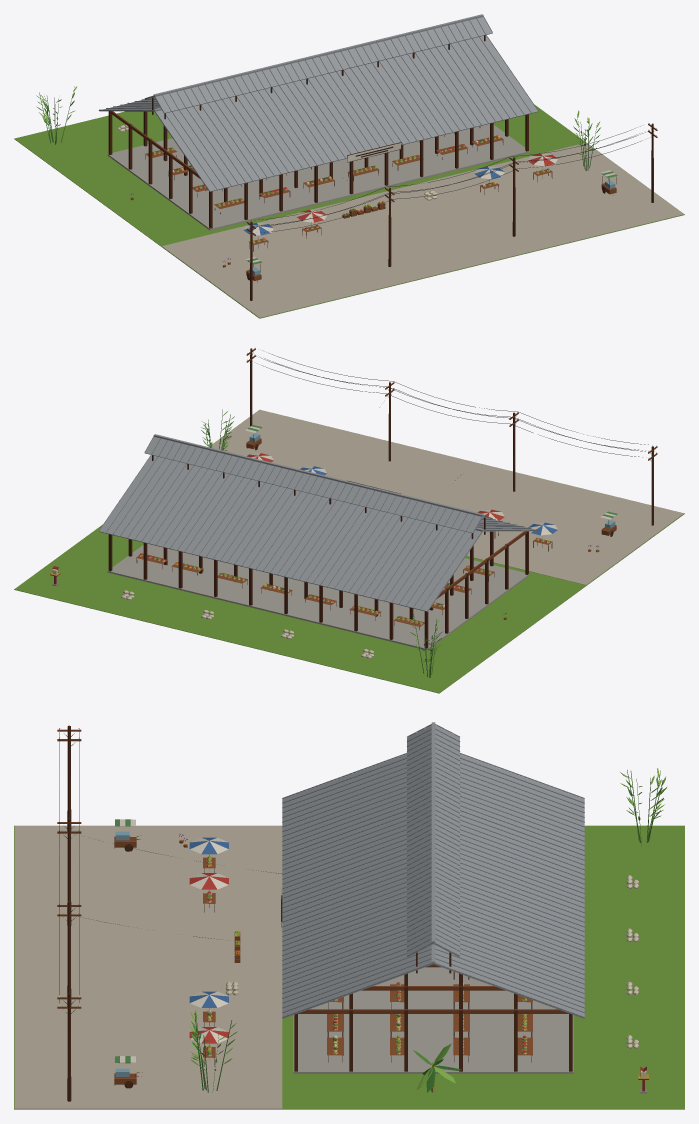
Rendered from market.glb.
3 renders of one model, top to bottom at view 1: azimuth 30°, elevation 25°; view 2: azimuth 150°, elevation 25°; view 3: azimuth 270°, elevation 25°, orthographic. The views are drawn at different scales.
Parts seen in each view (by area): view 1: body; view 2: body; view 3: body.
Part boxes in pixels (left/top/right/bottom): body: left=14, top=14, right=684, bottom=318; body: left=14, top=348, right=684, bottom=693; body: left=14, top=722, right=684, bottom=1109.
Bounding box in the file's own units: 47.9 × 10.95 × 47.9.
